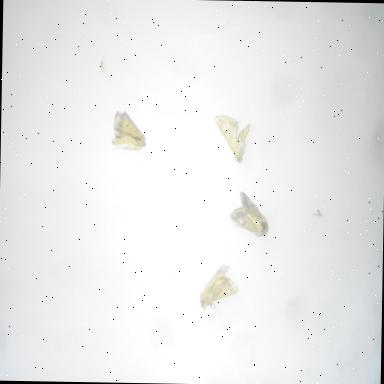abw: (227, 186, 272, 240), (197, 262, 242, 314), (212, 111, 252, 168), (108, 108, 150, 158)
